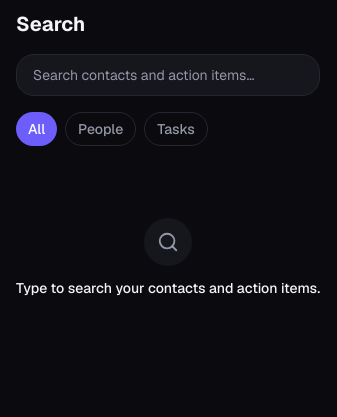
Test: SearchPage › highlights the matched query substring in a result
Type "alice" into the field with placeholder "Search contacts and action items…".
click(168, 75); type("alice")  # box x1=16 y1=54 x2=320 y2=96
Wait 300 ms
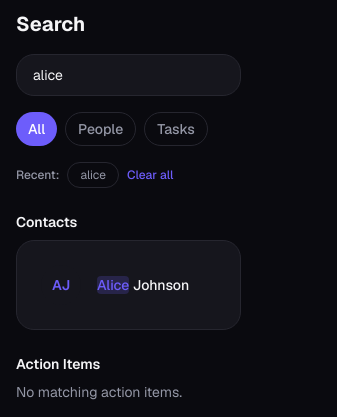
Expected: the link "Alice Johnson" is shown, x1=97 y1=276 x2=189 y2=294
Expected: the text "Alice" is shown, x1=97 y1=276 x2=129 y2=294
